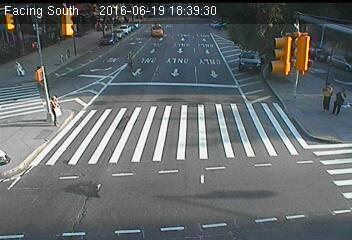neg: (55, 48, 67, 64), (46, 26, 56, 39), (244, 31, 252, 42), (94, 24, 100, 32)
pos: (39, 90, 65, 124), (329, 85, 351, 117), (313, 80, 336, 110), (121, 46, 140, 72), (9, 58, 24, 77), (28, 36, 39, 51)
